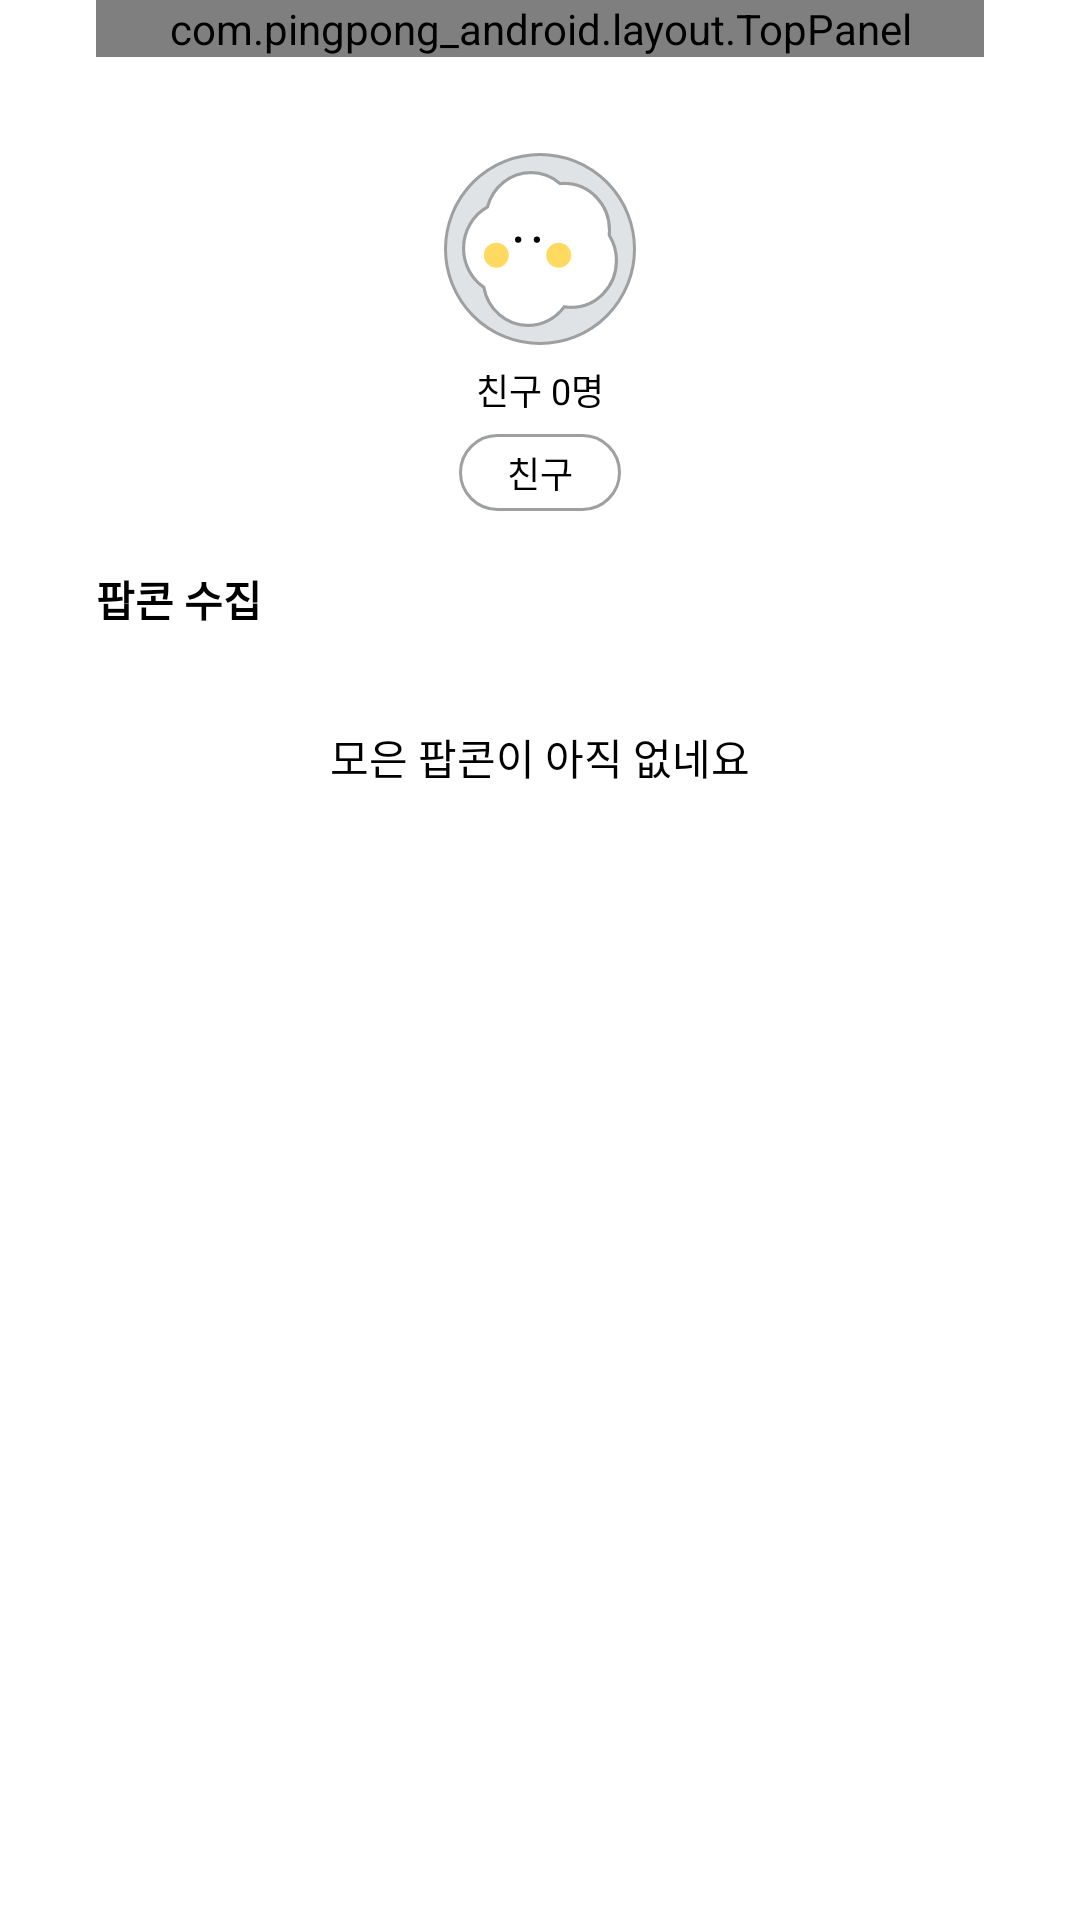

Screen size 1080 × 1920. Icon name, then its center in pixels as [x,y]:
profile popcorn: [540,249]
